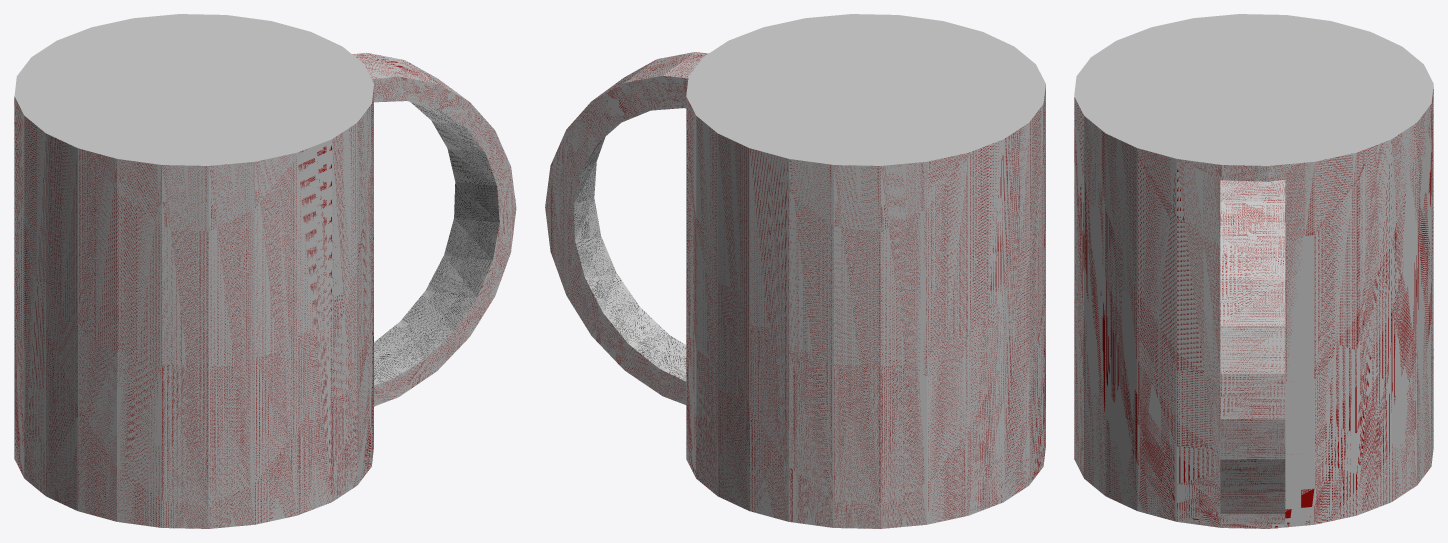
The picture shows the model from 3 angles, left to right: view 1: azimuth 30°, elevation 25°; view 2: azimuth 150°, elevation 25°; view 3: azimuth 270°, elevation 25°; orthographic projection.
Visible parts, largest first — view 1: mesh1_mesh1-geometry; view 2: mesh1_mesh1-geometry; view 3: mesh1_mesh1-geometry.
Part boxes in pixels (x1,y1,x2,y2): mesh1_mesh1-geometry: (14,14,516,528); mesh1_mesh1-geometry: (545,14,1045,528); mesh1_mesh1-geometry: (1074,14,1433,528).
Size of the model in its own units: 0.7032 by 0.529 by 0.475.
